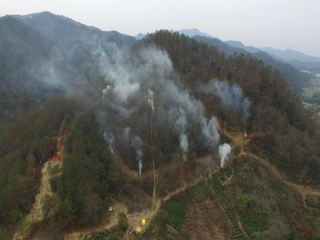smoke: (88, 42, 250, 175)
